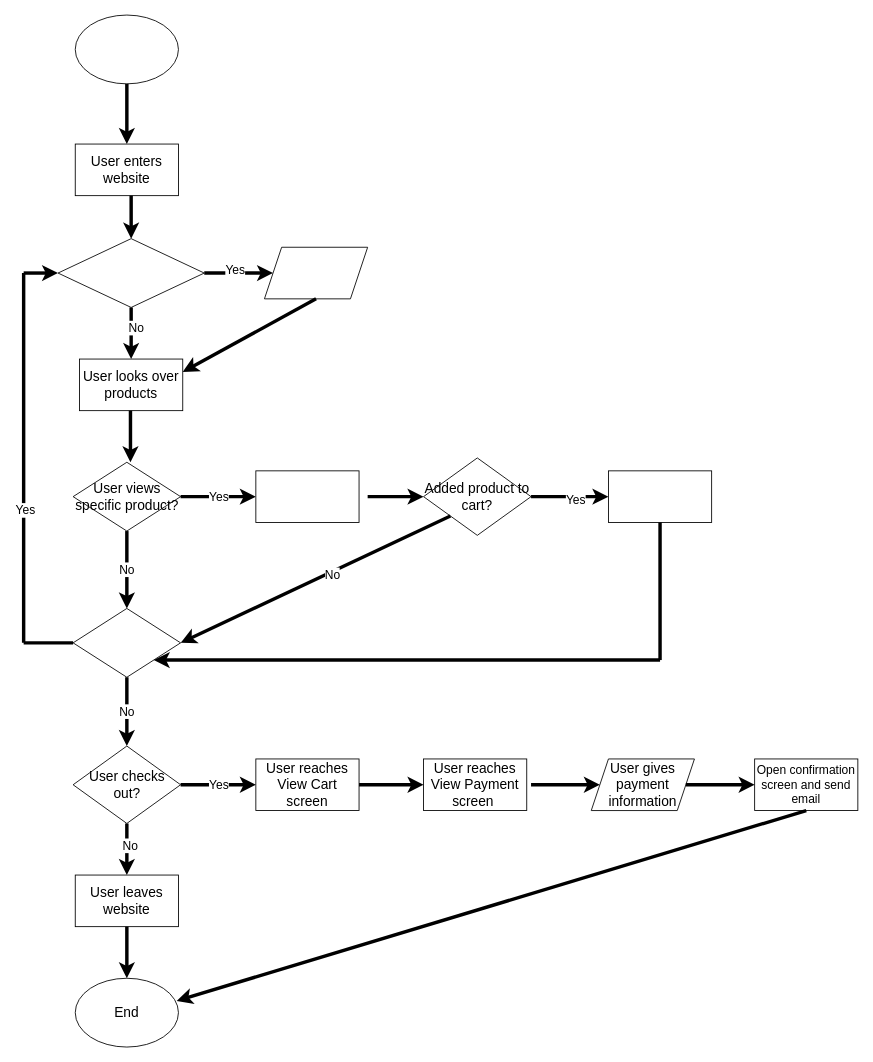
This 873x1062 diagram has some shape labels left out. The shapes that lost their labels are listed below. From the top down, each one's box as (x1, y1, x2, y2) in pixels, then its label:
(74, 14, 178, 84): Start
(57, 238, 204, 307): User searches for product?
(264, 246, 368, 299): Read user search input
(255, 470, 359, 522): Open that product's webpage
(608, 470, 712, 522): Send "added to cart" confirmation
(72, 608, 181, 677): Continue shopping?
